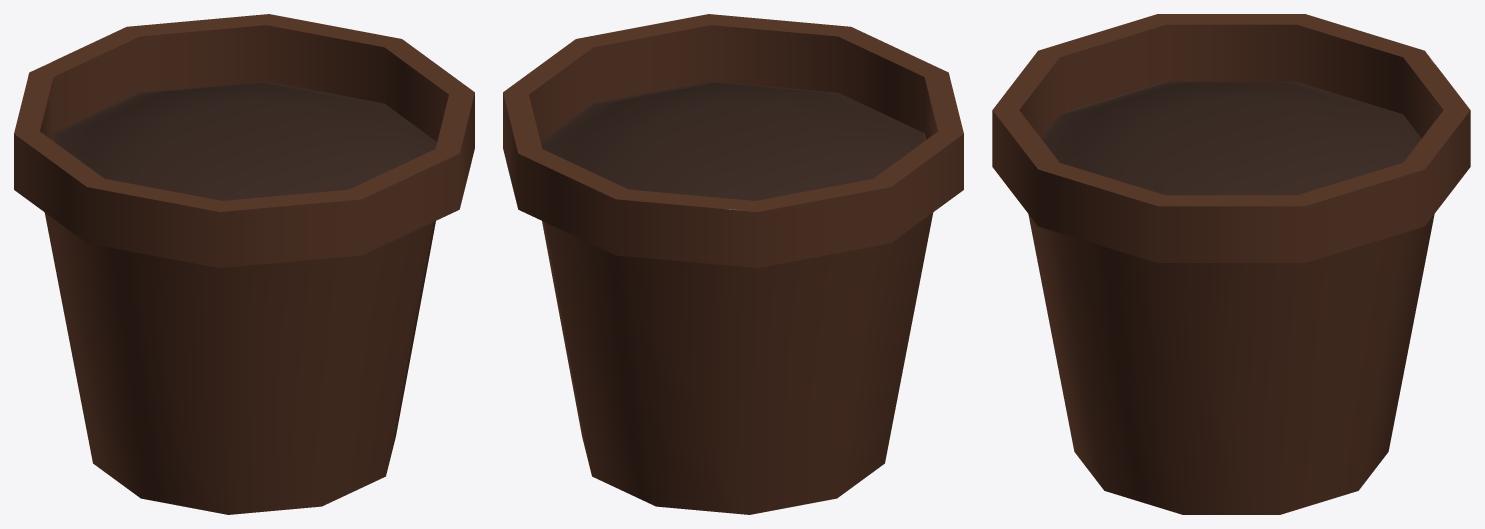
Rendered from furniture_garden_210042.glb.
3 views of the same model, side by side, from view 1: azimuth 30°, elevation 25°; view 2: azimuth 150°, elevation 25°; view 3: azimuth 270°, elevation 25° (orthographic).
Parts seen in each view (by area): view 1: furniture_garden_210042; view 2: furniture_garden_210042; view 3: furniture_garden_210042.
Part boxes in pixels (x1=…): furniture_garden_210042: x1=14, y1=14, x2=474, y2=514; furniture_garden_210042: x1=503, y1=14, x2=963, y2=514; furniture_garden_210042: x1=992, y1=14, x2=1470, y2=514.
Bounding box in the file's own units: 0.4341 × 0.36 × 0.4564.
1 material, 1 textured.
